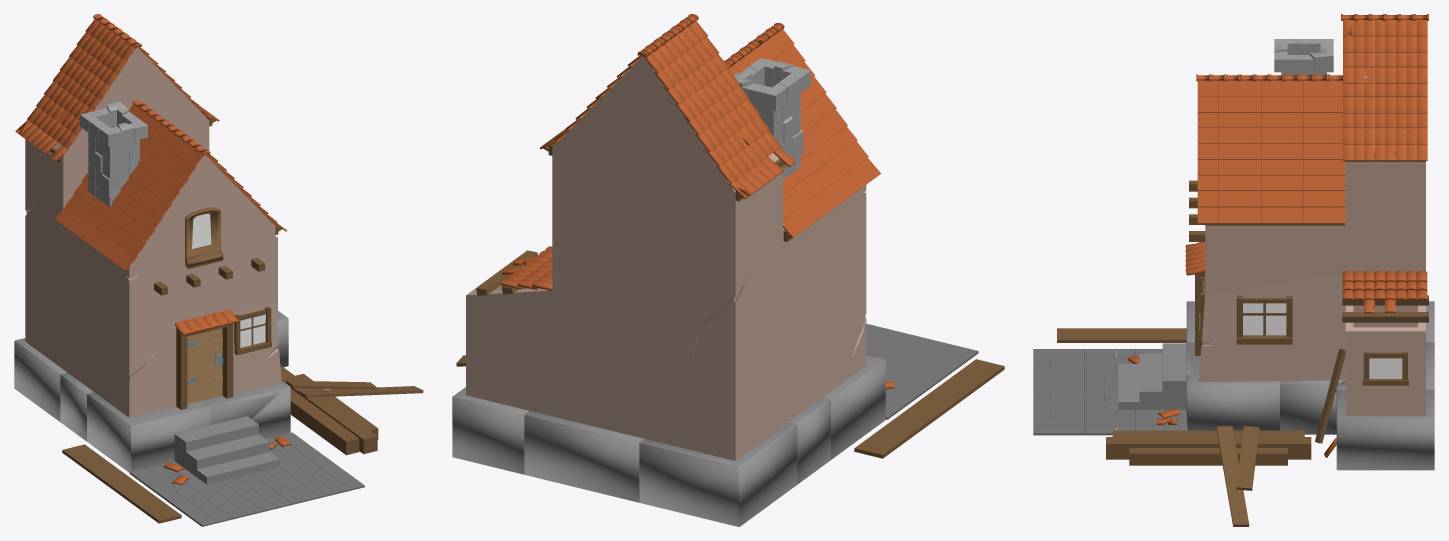
File: House.glb
3 renders of one model, left to right at view 1: azimuth 30°, elevation 25°; view 2: azimuth 150°, elevation 25°; view 3: azimuth 270°, elevation 25°, orthographic. The views are drawn at different scales.
Visible parts, largest first — view 1: Cube-col, Cube.001-col, Plane.009-col, Plane-col, Plane.018-col, Cube.002-col, Cube.018-col, Cube.032-col, Cube.010-col, Cube.009-col, Cube.022-col, Cube.007-col (+10 smaller); view 2: Cube-col, Cube.001-col, Plane.018-col, Plane.009-col, Plane-col, Cube.018-col, Cube.032-col, Plane.014-col, Plane.008-col, Plane.003-col; view 3: Cube-col, Plane.009-col, Cube.001-col, Plane.018-col, Plane-col, Cube.002-col, Plane.014-col, Cube.021-col, Cube.020-col, Cube.018-col, Cube.032-col, Cube.023-col (+13 smaller).
Part boxes in pixels (bbox=[...]): Cube-col: bbox=[25, 47, 281, 417]; Cube.001-col: bbox=[14, 311, 290, 472]; Plane.009-col: bbox=[55, 104, 287, 270]; Plane-col: bbox=[129, 432, 364, 526]; Plane.018-col: bbox=[15, 19, 219, 161]; Cube.002-col: bbox=[174, 416, 279, 484]; Cube.018-col: bbox=[80, 101, 147, 206]; Cube.032-col: bbox=[62, 444, 181, 523]; Cube.010-col: bbox=[187, 328, 222, 404]; Cube.009-col: bbox=[176, 323, 233, 409]; Cube.022-col: bbox=[290, 388, 359, 455]; Cube.007-col: bbox=[185, 207, 223, 268]; Cube-col: bbox=[466, 56, 866, 460]; Cube.001-col: bbox=[452, 355, 885, 526]; Plane.018-col: bbox=[540, 21, 795, 199]; Plane.009-col: bbox=[728, 29, 880, 238]; Plane-col: bbox=[866, 323, 978, 419]; Cube.018-col: bbox=[733, 58, 810, 179]; Cube.032-col: bbox=[854, 359, 1004, 458]; Plane.014-col: bbox=[500, 246, 552, 290]; Plane.008-col: bbox=[724, 22, 784, 68]; Plane.003-col: bbox=[637, 14, 698, 57]; Cube-col: bbox=[1198, 20, 1425, 415]; Plane.009-col: bbox=[1197, 76, 1345, 223]; Cube.001-col: bbox=[1186, 301, 1434, 470]; Plane.018-col: bbox=[1343, 20, 1427, 160]; Plane-col: bbox=[1033, 349, 1186, 435]; Cube.002-col: bbox=[1118, 343, 1186, 409]; Plane.014-col: bbox=[1342, 270, 1427, 300]; Cube.021-col: bbox=[1106, 437, 1311, 459]; Cube.020-col: bbox=[1129, 448, 1287, 465]; Cube.018-col: bbox=[1274, 39, 1333, 75]; Cube.032-col: bbox=[1057, 328, 1186, 342]; Cube.023-col: bbox=[1216, 426, 1249, 526].
Size of the model in its own units: 15.19 by 15.43 by 14.33.
